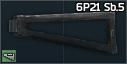AKS-74 metal skeletonized stock 6P21 Sb.5: (0, 0, 127, 64)
